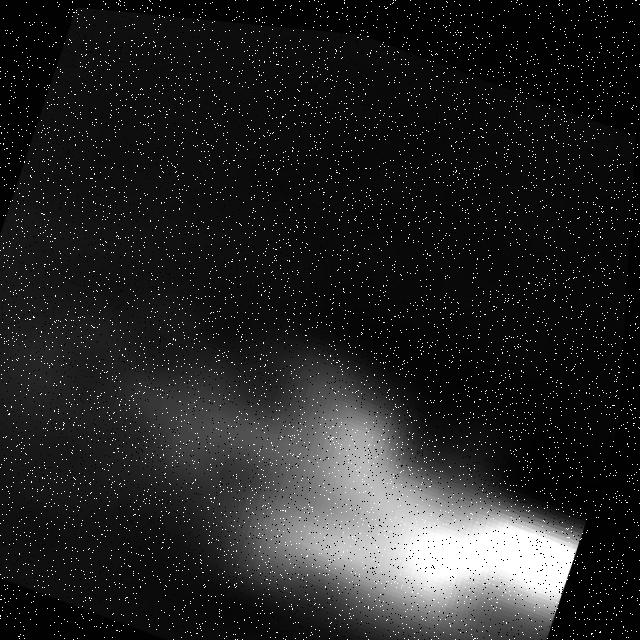person: (61, 279, 618, 640)
